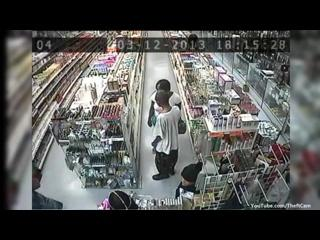Normal: (150, 90, 180, 180), (147, 79, 181, 128)
